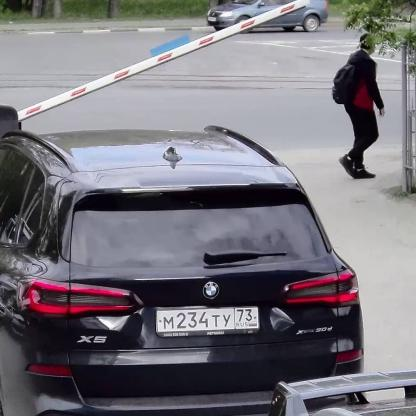plate: (157, 306, 259, 332)
